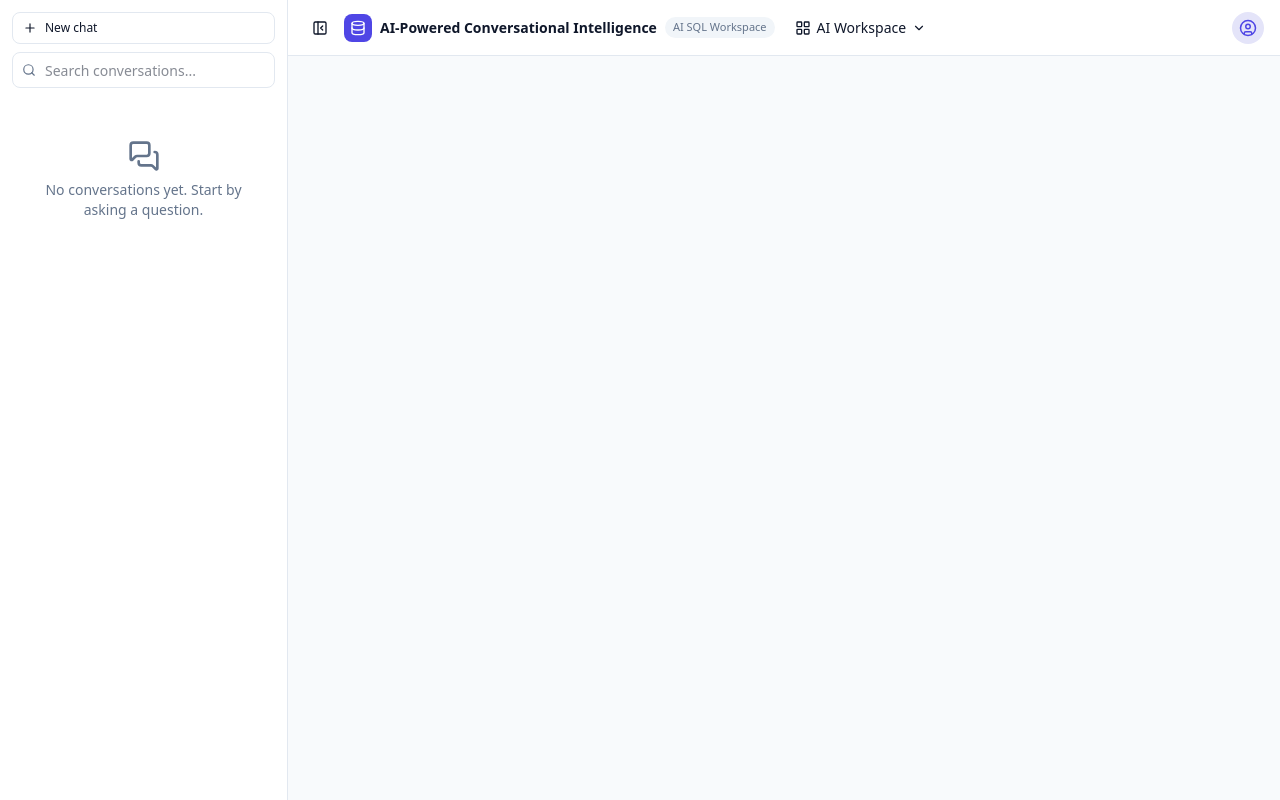
Test: AppShell Tenant Admin nav gating › shows the Tenant Admin tab for an auditor
The width and height of the screenshot is (1280, 800).
Click the button "AI Workspace" at (860, 28), box [782,12,938,44]
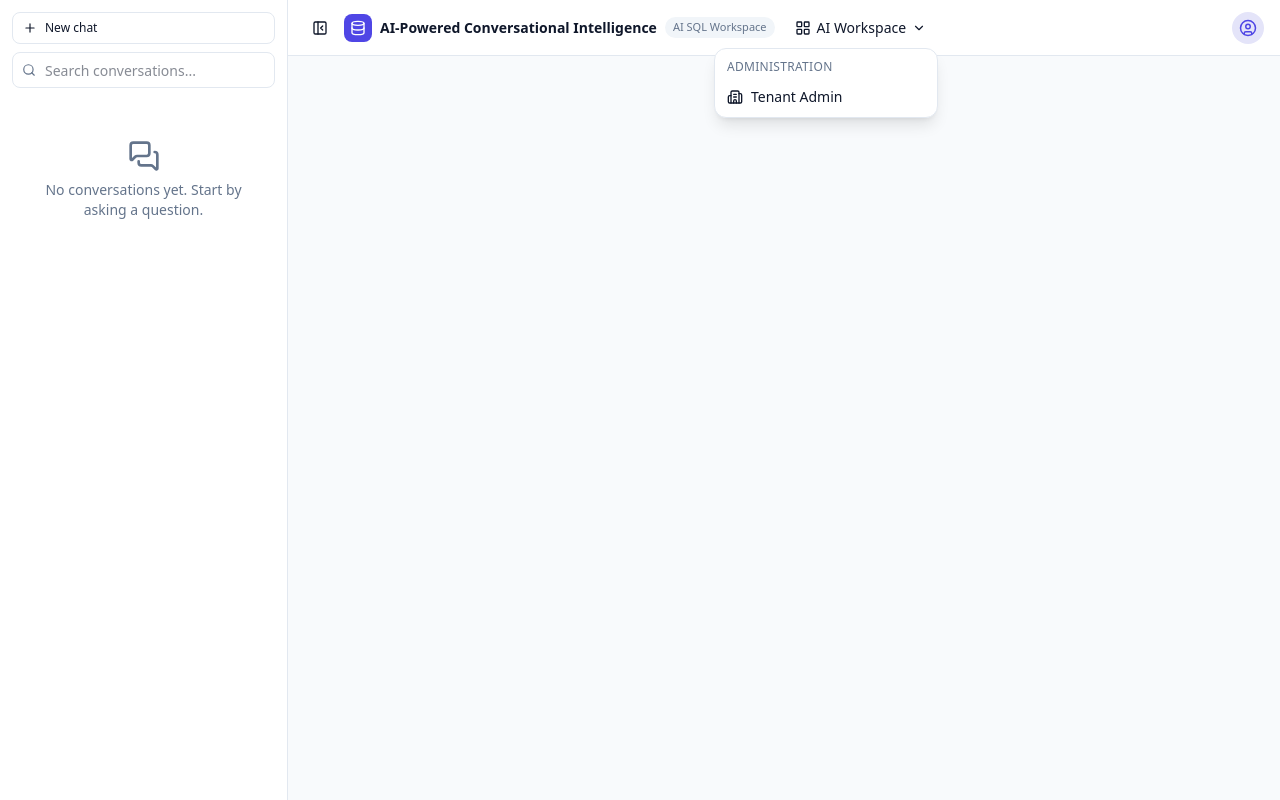
Check: the menu item "Tenant Admin" is shown, box [727,87,842,106]
